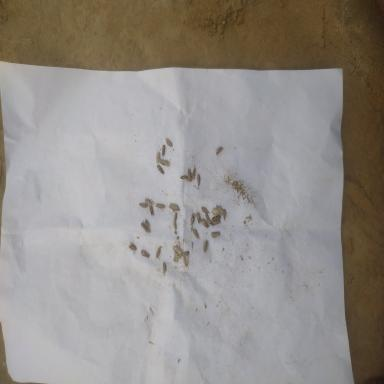pbw: (166, 202, 179, 210), (172, 246, 182, 256), (144, 218, 151, 232), (140, 223, 148, 233), (140, 250, 150, 258), (201, 219, 209, 229), (215, 146, 223, 156), (160, 159, 170, 167), (222, 208, 228, 221), (201, 207, 212, 214), (193, 229, 200, 240), (211, 220, 220, 228), (156, 246, 162, 258), (210, 215, 220, 222), (157, 164, 164, 174), (210, 231, 220, 238), (154, 203, 165, 209), (144, 198, 152, 206), (128, 243, 136, 251), (192, 164, 196, 180), (182, 256, 188, 266), (203, 240, 208, 252), (205, 214, 211, 224), (165, 138, 172, 146), (149, 205, 154, 216), (188, 168, 192, 181), (180, 251, 190, 256), (138, 203, 148, 208), (197, 212, 201, 224), (180, 175, 188, 181), (156, 151, 160, 163), (162, 261, 166, 273), (197, 174, 200, 189), (162, 145, 166, 156), (172, 222, 177, 230), (174, 213, 178, 221)
